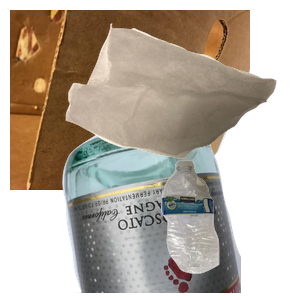cardboard: (10, 10, 250, 190)
glass: (60, 120, 300, 300)
plastic: (159, 158, 300, 300)
trash: (63, 21, 300, 172)
